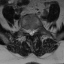CCS_normal: (30, 26, 33, 38)
LFS_normal: (35, 25, 38, 34)
LLS_normal: (33, 26, 35, 35)
RFS_normal: (25, 26, 28, 35)
RLS_normal: (28, 26, 30, 36)
